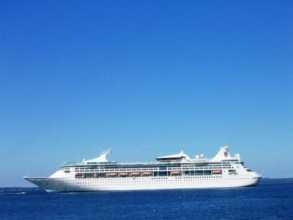youlun: (29, 141, 258, 196)
